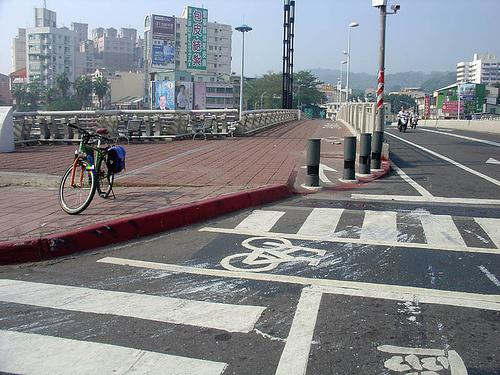car: (59, 123, 121, 216)
